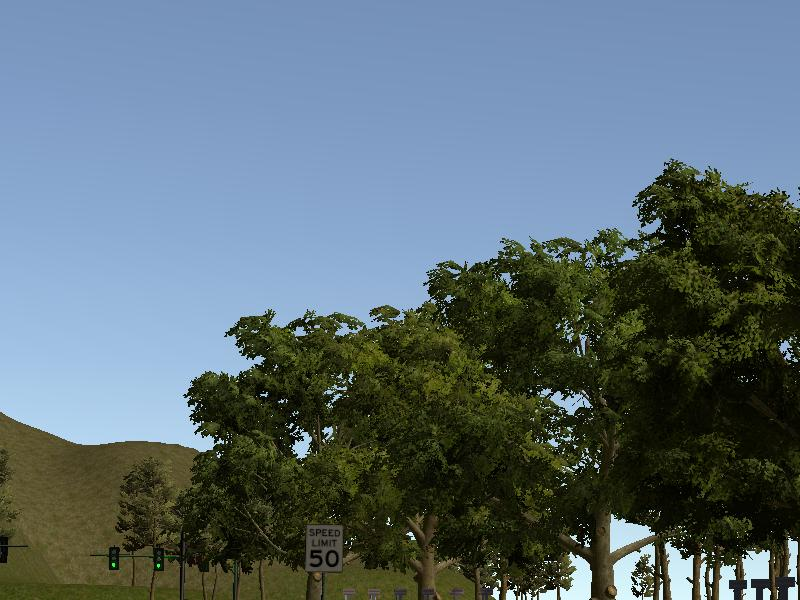Green: (153, 549, 165, 571), (109, 546, 118, 568)
